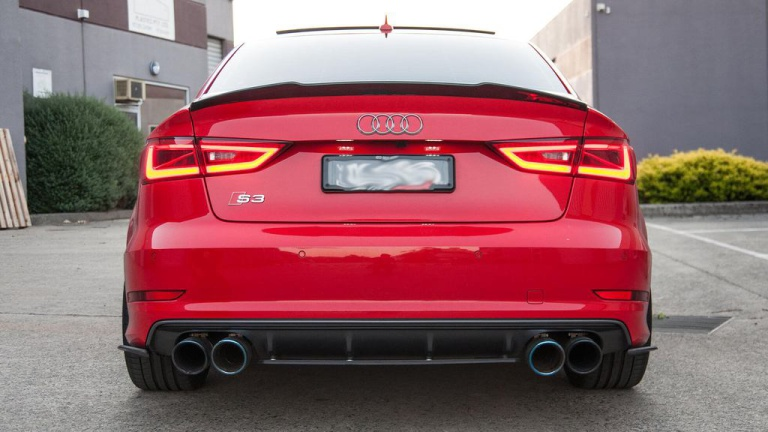audi: (353, 106, 422, 135)
